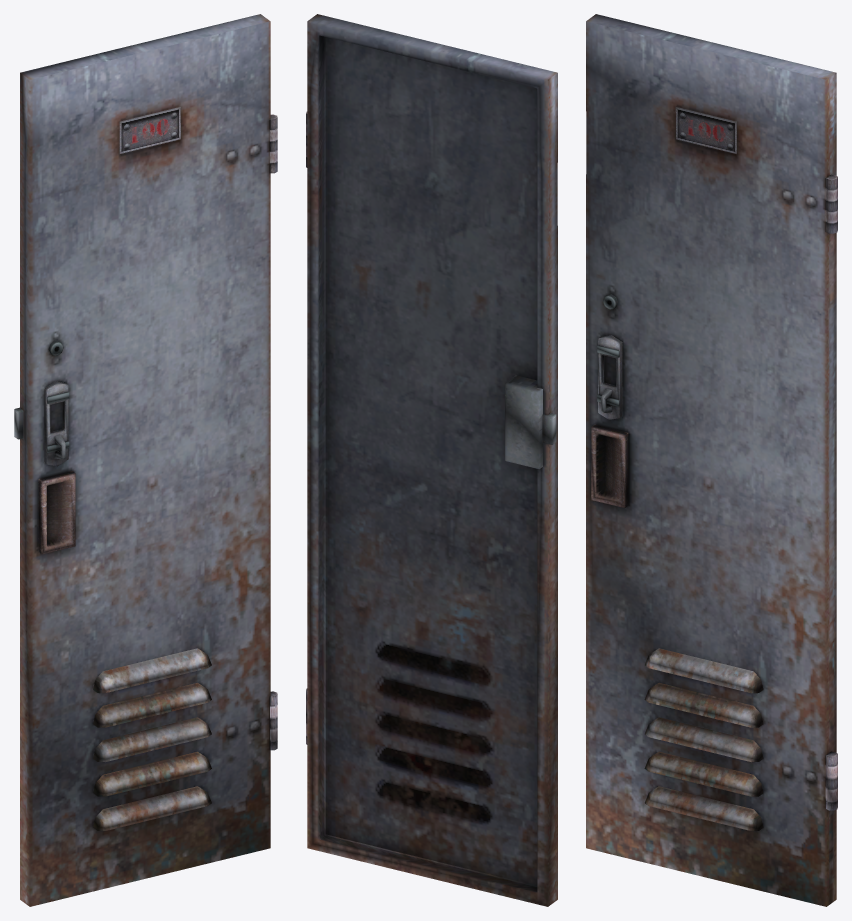
Rendered from Locker_Door.obj.
The picture shows the model from 3 angles, left to right: view 1: azimuth 30°, elevation 25°; view 2: azimuth 150°, elevation 25°; view 3: azimuth 330°, elevation 25°; orthographic projection.
Parts seen in each view (by area): view 1: OBJ_LOCKER_CLOTHING_Door; view 2: OBJ_LOCKER_CLOTHING_Door; view 3: OBJ_LOCKER_CLOTHING_Door.
Boxes of the visible parts, x1=… form: OBJ_LOCKER_CLOTHING_Door: x1=14, y1=14, x2=277, y2=906; OBJ_LOCKER_CLOTHING_Door: x1=306, y1=14, x2=557, y2=906; OBJ_LOCKER_CLOTHING_Door: x1=586, y1=14, x2=837, y2=906.
Bounding box in the file's own units: 59.2 × 184 × 8.96.
Materials: 1 (1 with a texture image).
